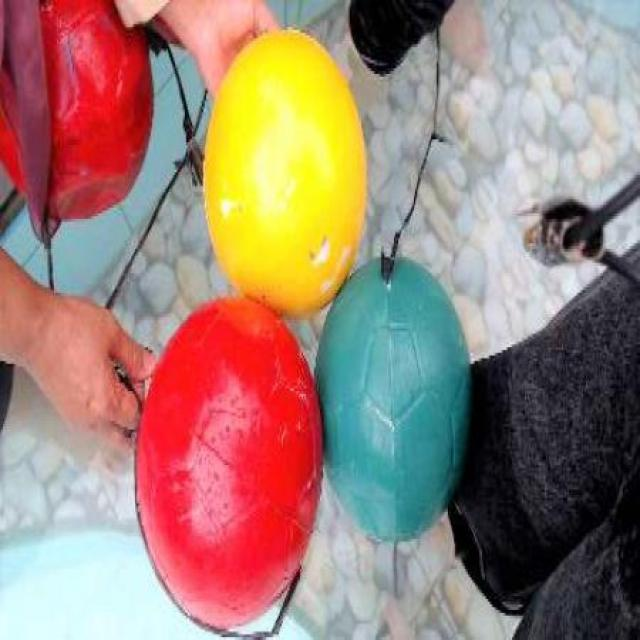buoy: (132, 295, 323, 629), (202, 25, 367, 318), (311, 256, 471, 543), (1, 0, 153, 219)
